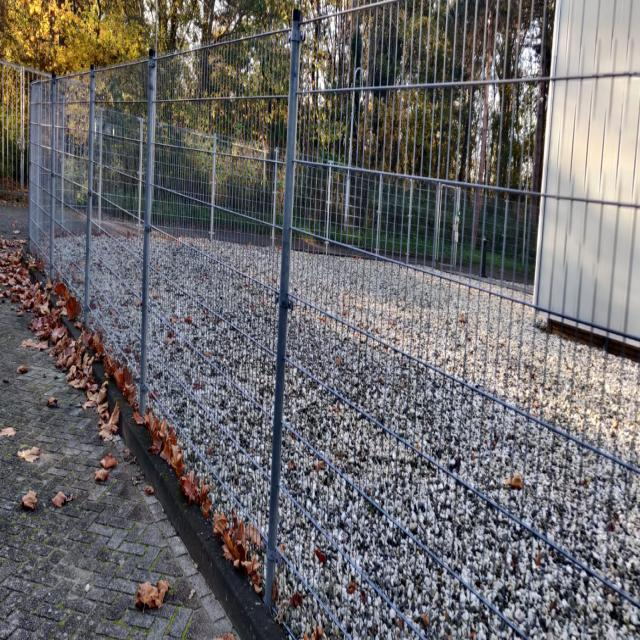fence line: (266, 0, 640, 640), (27, 54, 325, 576)
